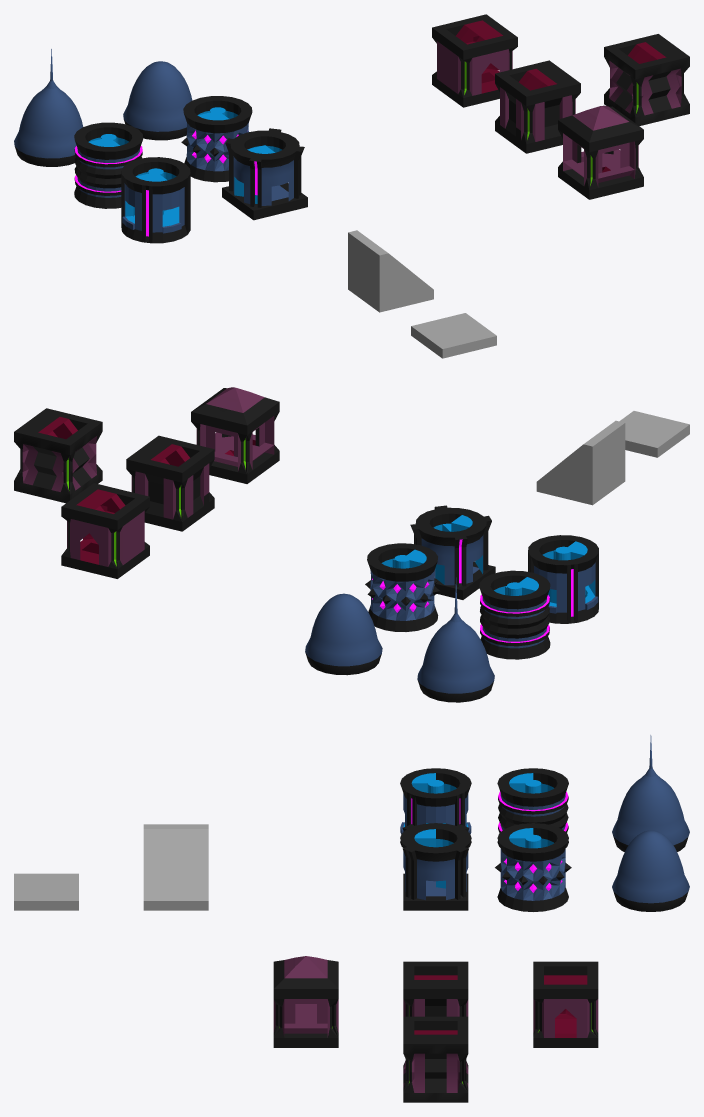
3 renders of one model, top to bottom at view 1: azimuth 30°, elevation 25°; view 2: azimuth 150°, elevation 25°; view 3: azimuth 270°, elevation 25°, orthographic. The views are drawn at different scales.
Parts seen in each view (by area): view 1: pCube9, pCube12, pCylinder7, pCube10, pasted__pCube1, pCylinder9, pCylinder8, pCylinder4, pSphere2, pCube13, pSphere1, pCube3; view 2: pasted__pCube1, pCube12, pCube9, pCube10, pCylinder8, pCylinder4, pCylinder7, pCylinder9, pSphere2, pSphere1, pCube13, pCube3; view 3: pCube9, pCylinder7, pCube13, pasted__pCube1, pCylinder4, pCube12, pSphere1, pCylinder8, pSphere2, pCylinder9, pCube10, pCube3.
Part boxes in pixels (x1,y1,x2,y2): pCube9: (558,105,643,199); pCube12: (604,34,689,125); pCylinder7: (222,128,307,220); pCube10: (495,60,580,153); pasted__pCube1: (432,14,517,107); pCylinder9: (121,157,190,243); pCylinder8: (74,122,143,208); pCylinder4: (181,96,252,182); pSphere2: (14,49,83,166); pCube13: (348,230,433,312); pSphere1: (123,61,192,140); pCube3: (411,313,496,358); pasted__pCube1: (61,483,149,578); pCube12: (14,408,102,503); pCube9: (191,387,279,483); pCube10: (126,435,214,531); pCylinder8: (479,570,550,659); pCylinder4: (365,543,439,631); pCylinder7: (410,505,495,599); pCylinder9: (528,535,598,623); pSphere2: (417,577,494,702); pSphere1: (305,593,382,675); pCube13: (536,420,625,505); pCube3: (619,411,689,457); pCube9: (273,956,338,1047); pCylinder7: (400,823,471,910); pCube13: (143,824,208,910); pasted__pCube1: (533,961,598,1047); pCylinder4: (495,823,571,911); pCube12: (403,1016,468,1102); pSphere1: (612,830,689,911); pCylinder8: (497,768,568,847); pSphere2: (612,735,689,851); pCylinder9: (400,768,471,847); pCube10: (403,961,468,1016); pCube3: (14,873,78,910).
Bounding box in the file's own units: 50.51 × 9.43 × 52.07.
